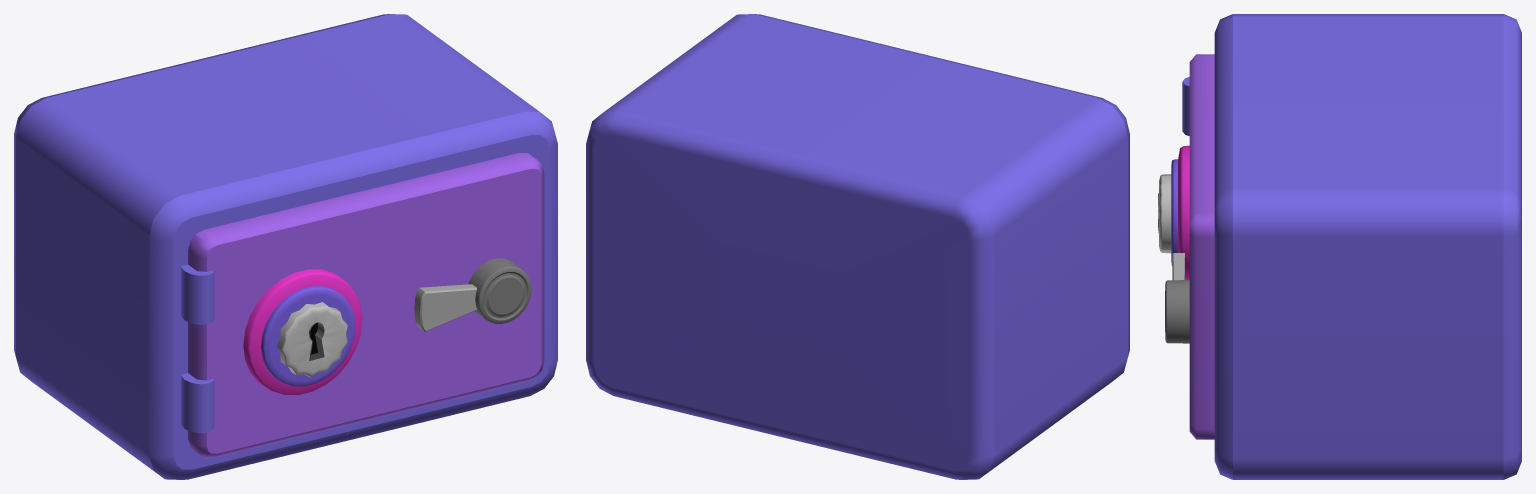
The model's file is safebox.fbx.
3 views of the same model, side by side, from view 1: azimuth 30°, elevation 25°; view 2: azimuth 150°, elevation 25°; view 3: azimuth 270°, elevation 25° (orthographic).
Parts seen in each view (by area): view 1: Medium_Safe_Base, Medium_Safe_Door, Medium_Safe_Lock, Medium_Safe_Handle; view 2: Medium_Safe_Base; view 3: Medium_Safe_Base, Medium_Safe_Door, Medium_Safe_Lock.
Part boxes in pixels (x1,y1,x2,y2): Medium_Safe_Base: [14, 14, 557, 479]; Medium_Safe_Door: [181, 153, 544, 458]; Medium_Safe_Lock: [276, 302, 347, 377]; Medium_Safe_Handle: [414, 284, 476, 331]; Medium_Safe_Base: [586, 14, 1129, 479]; Medium_Safe_Base: [1214, 14, 1521, 479]; Medium_Safe_Door: [1165, 54, 1214, 439]; Medium_Safe_Lock: [1158, 174, 1171, 253].
Size of the model in its own units: 61.96 by 41.41 by 47.27.
